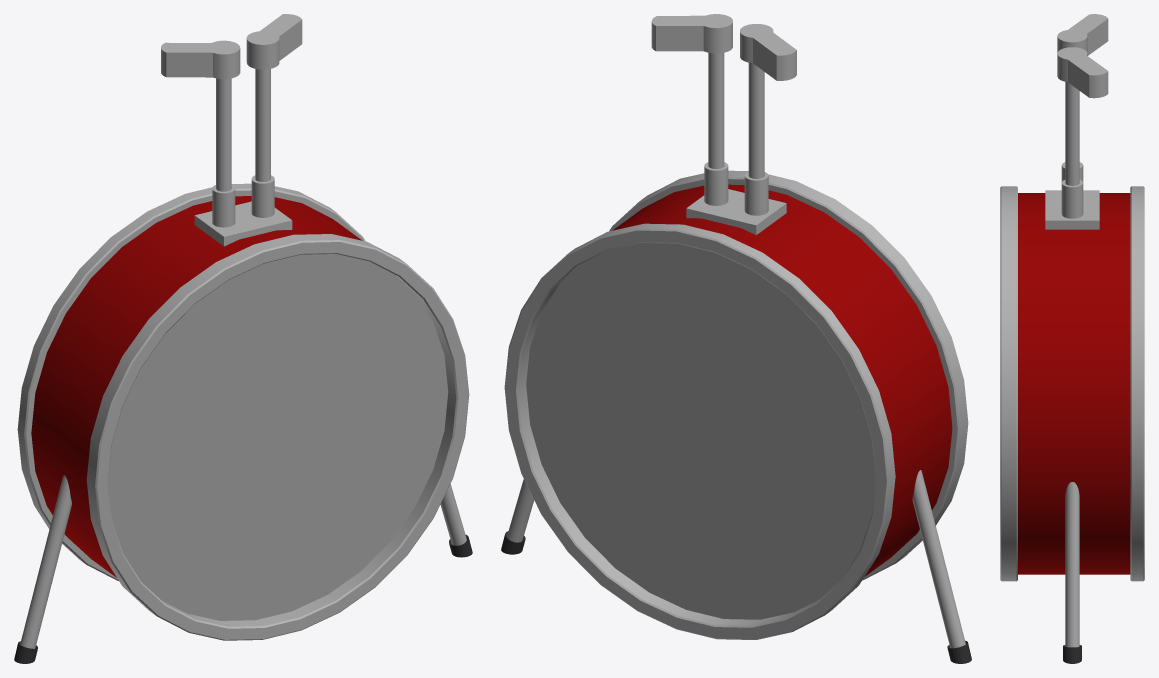
File: bass.fbx
3 renders of one model, left to right at view 1: azimuth 30°, elevation 25°; view 2: azimuth 150°, elevation 25°; view 3: azimuth 270°, elevation 25°, orthographic. The views are drawn at different scales.
Parts seen in each view (by area): view 1: pCylinder1, polySurface4, pCylinder4; view 2: pCylinder1, polySurface4, pCylinder4; view 3: pCylinder1, polySurface4, pCylinder4.
Boxes of the visible parts, <box> form: pCylinder1: <box>17,183,469,640</box>; polySurface4: <box>161,14,302,246</box>; pCylinder4: <box>14,475,472,663</box>; pCylinder1: <box>504,170,968,639</box>; polySurface4: <box>651,14,796,235</box>; pCylinder4: <box>501,470,971,663</box>; pCylinder1: <box>1000,186,1144,581</box>; polySurface4: <box>1045,14,1108,229</box>; pCylinder4: <box>1063,482,1081,663</box>.
Bounding box in the file's own units: 20.05 × 23.71 × 6.
